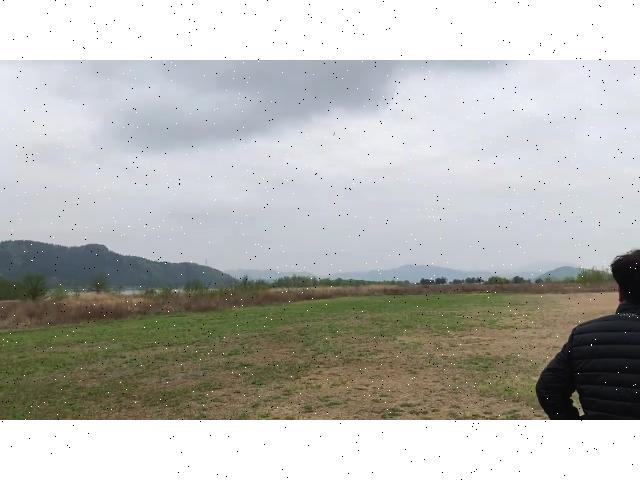Anti-Drone: (326, 128, 346, 140)
